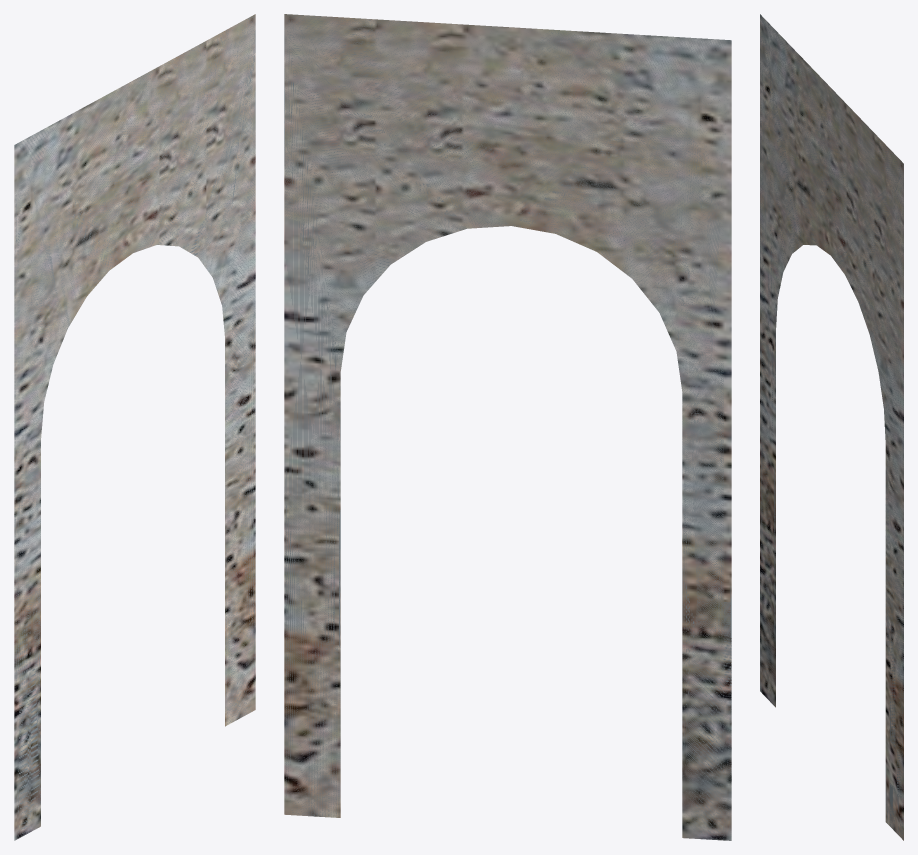
Rendered from 西庸城堡657.dae.
3 renders of one model, left to right at view 1: azimuth 30°, elevation 25°; view 2: azimuth 150°, elevation 25°; view 3: azimuth 270°, elevation 25°, orthographic. The views are drawn at different scales.
Parts seen in each view (by area): view 1: SketchUp; view 2: SketchUp; view 3: SketchUp.
Part boxes in pixels (<box>): SketchUp: <box>14,14,255,840</box>; SketchUp: <box>284,14,731,840</box>; SketchUp: <box>760,14,903,840</box>.
Bounding box in the file's own units: 253 × 103 × 535.
